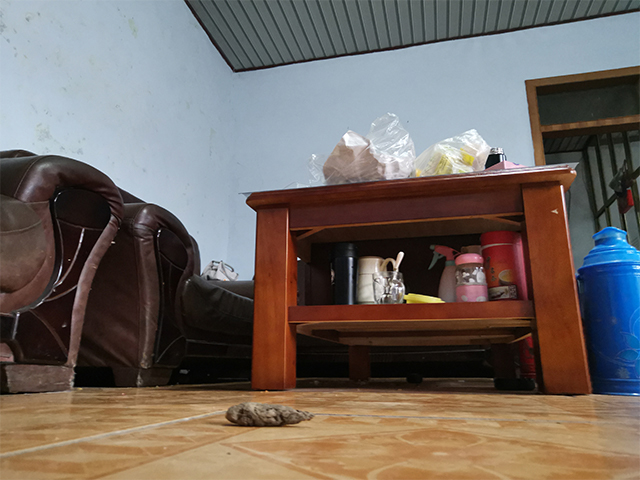feces: (223, 400, 316, 428)
sofa: (1, 143, 256, 398)
table: (237, 161, 594, 397)
